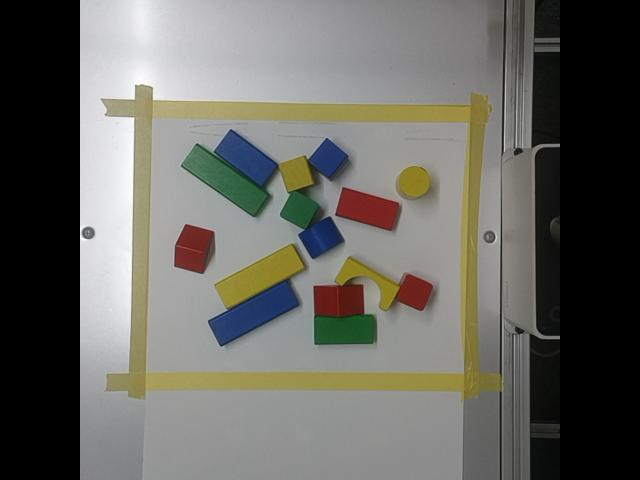blue_cube: (309, 136, 348, 177)
blue_longrect: (208, 280, 299, 344)
blue_rect: (215, 129, 278, 186)
cylinder: (398, 165, 431, 196)
green_cube: (280, 188, 319, 227)
green_longrect: (182, 143, 268, 215)
green_rect: (315, 314, 373, 342)
half_cylinder: (299, 215, 343, 257)
red_cube: (396, 273, 433, 309)
red_rect: (336, 185, 399, 231)
triangle: (175, 223, 213, 273), (315, 284, 364, 314)
yellow_archrect: (335, 256, 400, 310)
yellow_cube: (279, 154, 314, 191)
yellow_longrect: (214, 242, 305, 308)
